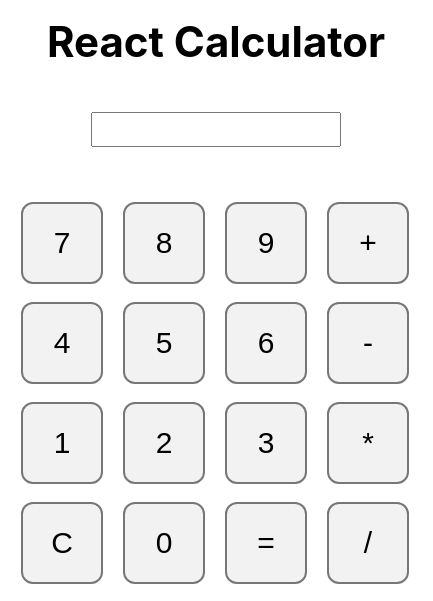
it: React Calculator Tests › Edge Case Handling › handles incomplete expression (e.g., pressing "=" without complete expression)
Click the button "=".
click(266, 543)  # box [225,502,307,584]
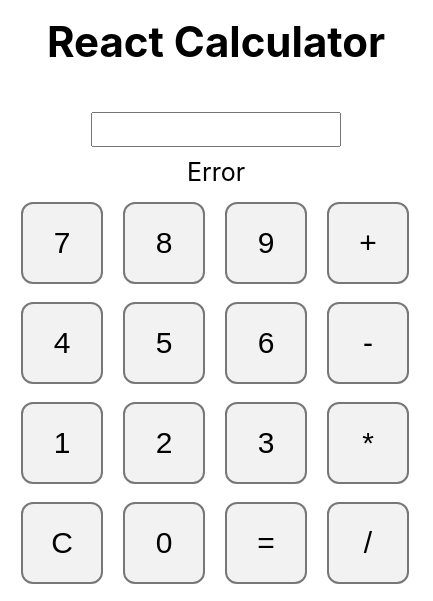
Expected: the text "Error" is shown, [187,157,245,187]
